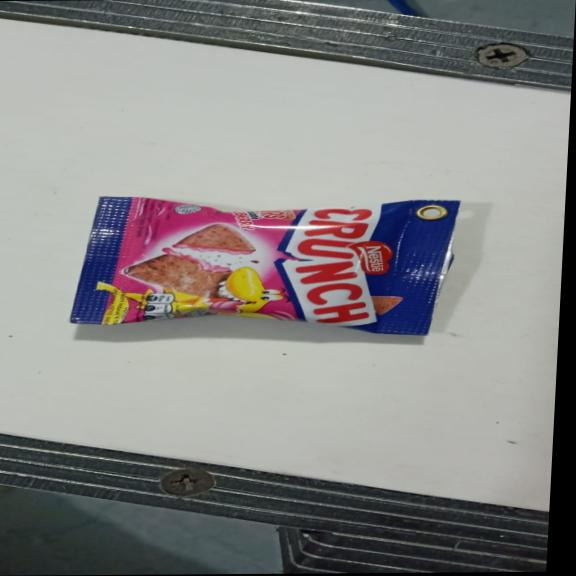Plastik: (67, 192, 461, 338)
